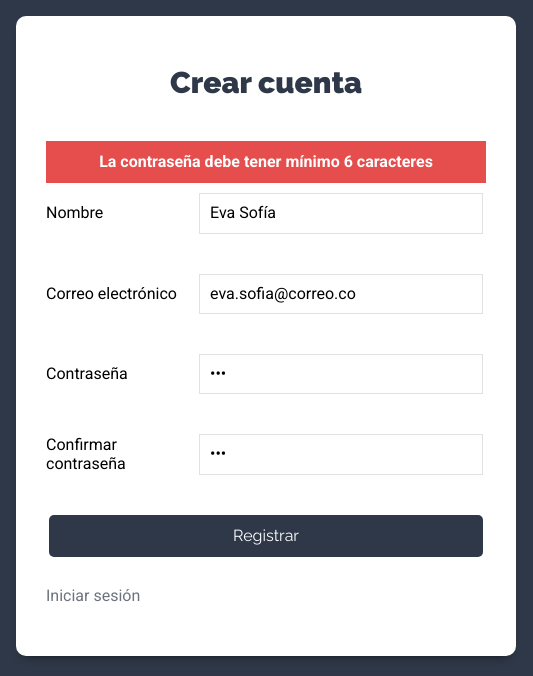
Test: <SignUp /> › Debe mostrar el mensaje de error "La contraseña confirmada no coincide"
Type "123456789" into the password field with test id "signup-input-password" at (341, 374), box [199,354,483,394]
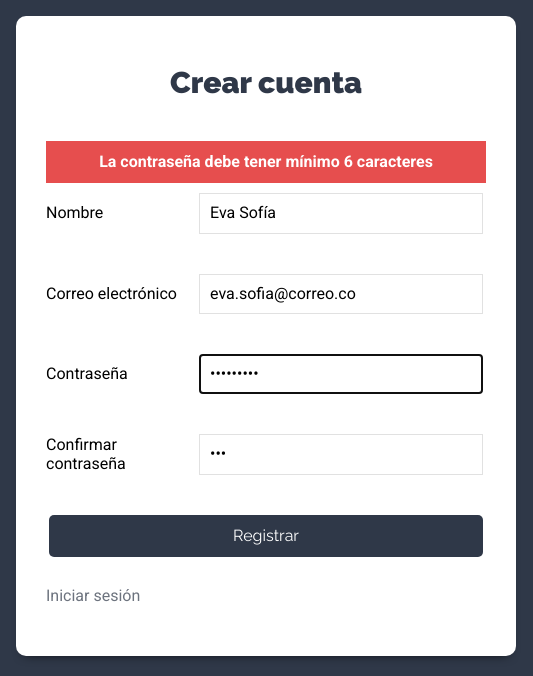
Type "123456788" into the password field with test id "signup-input-confirm-password" at (341, 454), box [199,434,483,474]
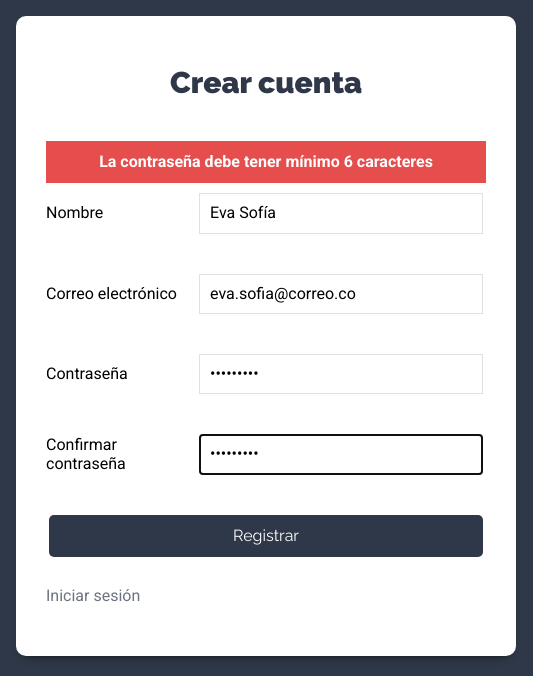
Click the button with test id "signup-button-submit" at (266, 536), box [49,515,483,557]
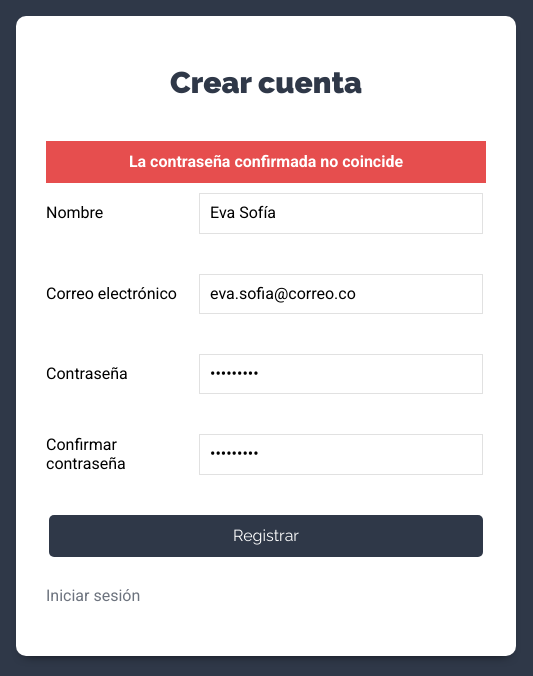
Result: the text with test id "alert-error" reads "La contraseña confirmada no coincide" at [46,141,486,183]
